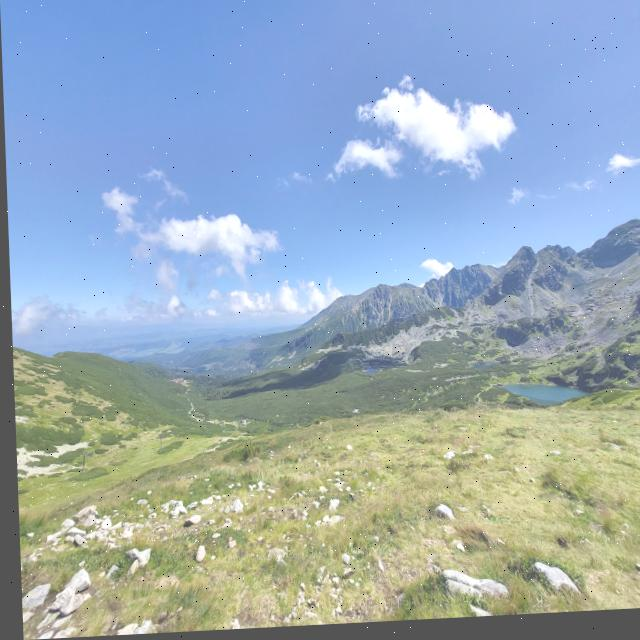Koscielec: (502, 211, 545, 286)
Skrajny i Posredni Granat: (423, 232, 506, 302)
